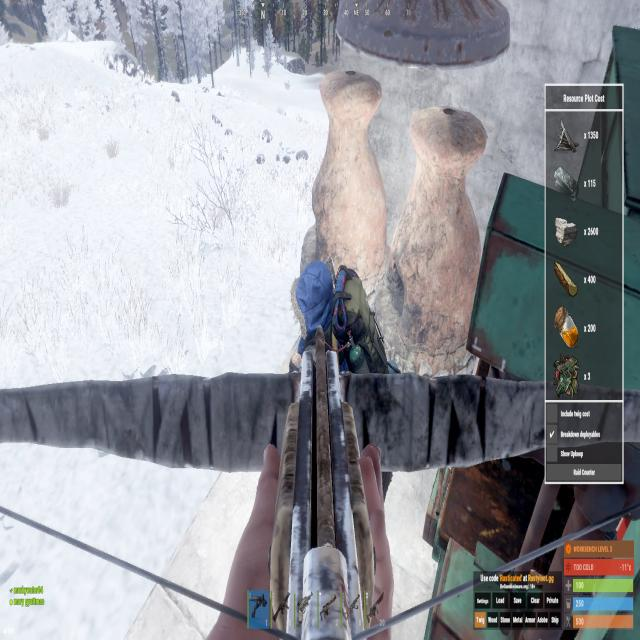Player: (296, 256, 380, 388)
